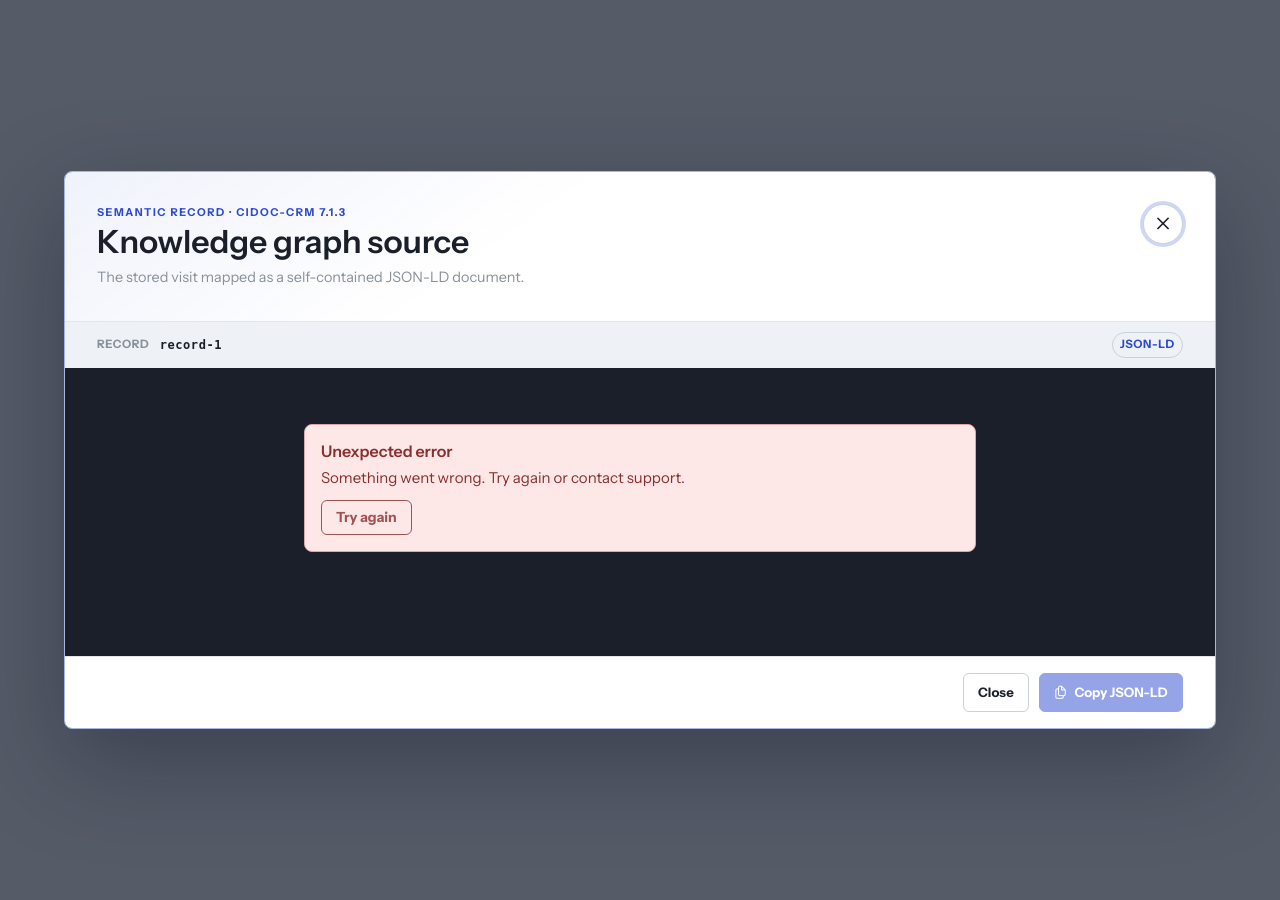
Test: InSituVisitCidocDialogComponent › retries a failed request without closing the dialog
Click the button "Try again" at (366, 517), box [321,500,412,535]
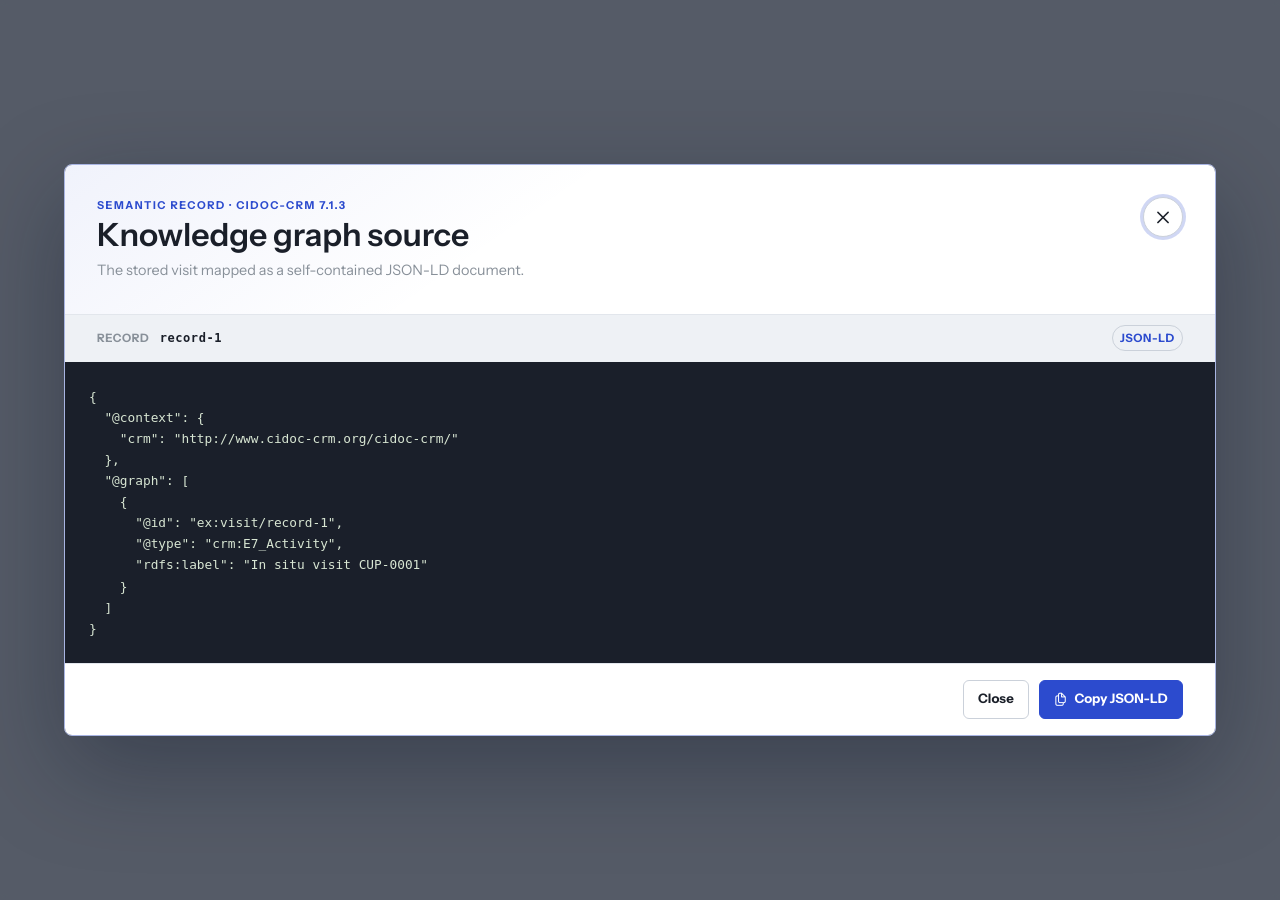
Check: the text "crm:E7_Activity" is shown, box [89,388,459,636]
